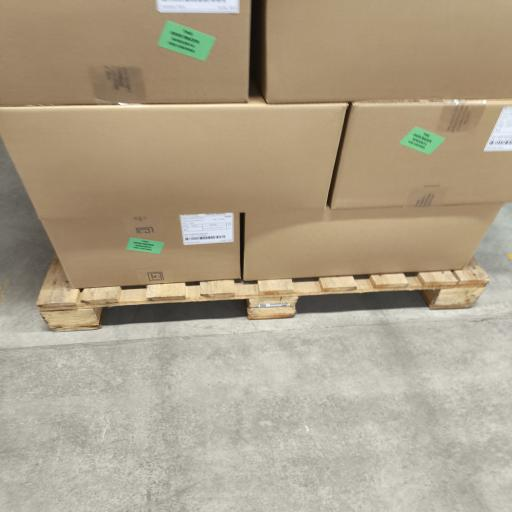pallet: (38, 258, 489, 331)
